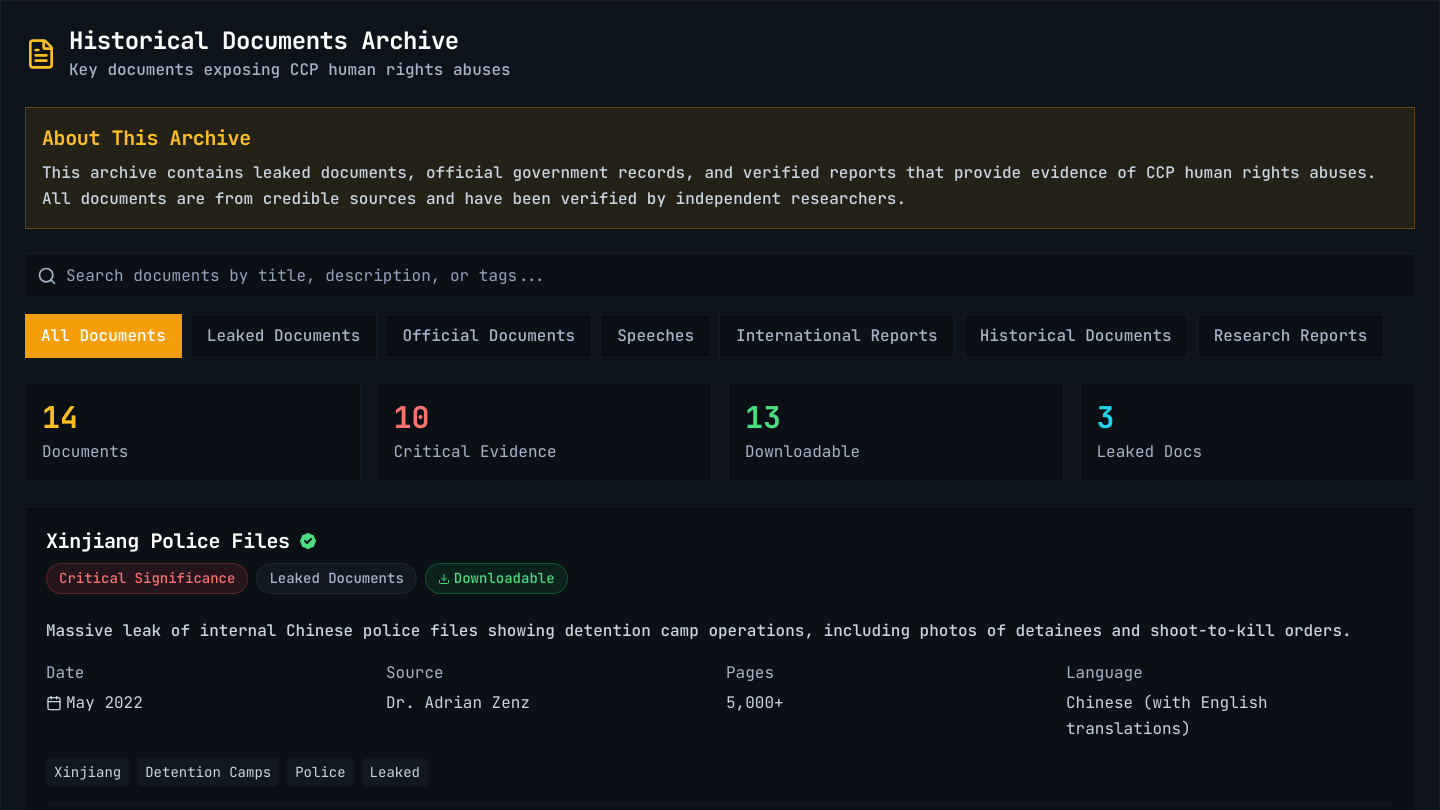
Test: HistoricalDocuments › searches documents by tag
Type "Tiananmen" into the field labelled "Search". click: (720, 276)
box: [25, 253, 1415, 298]
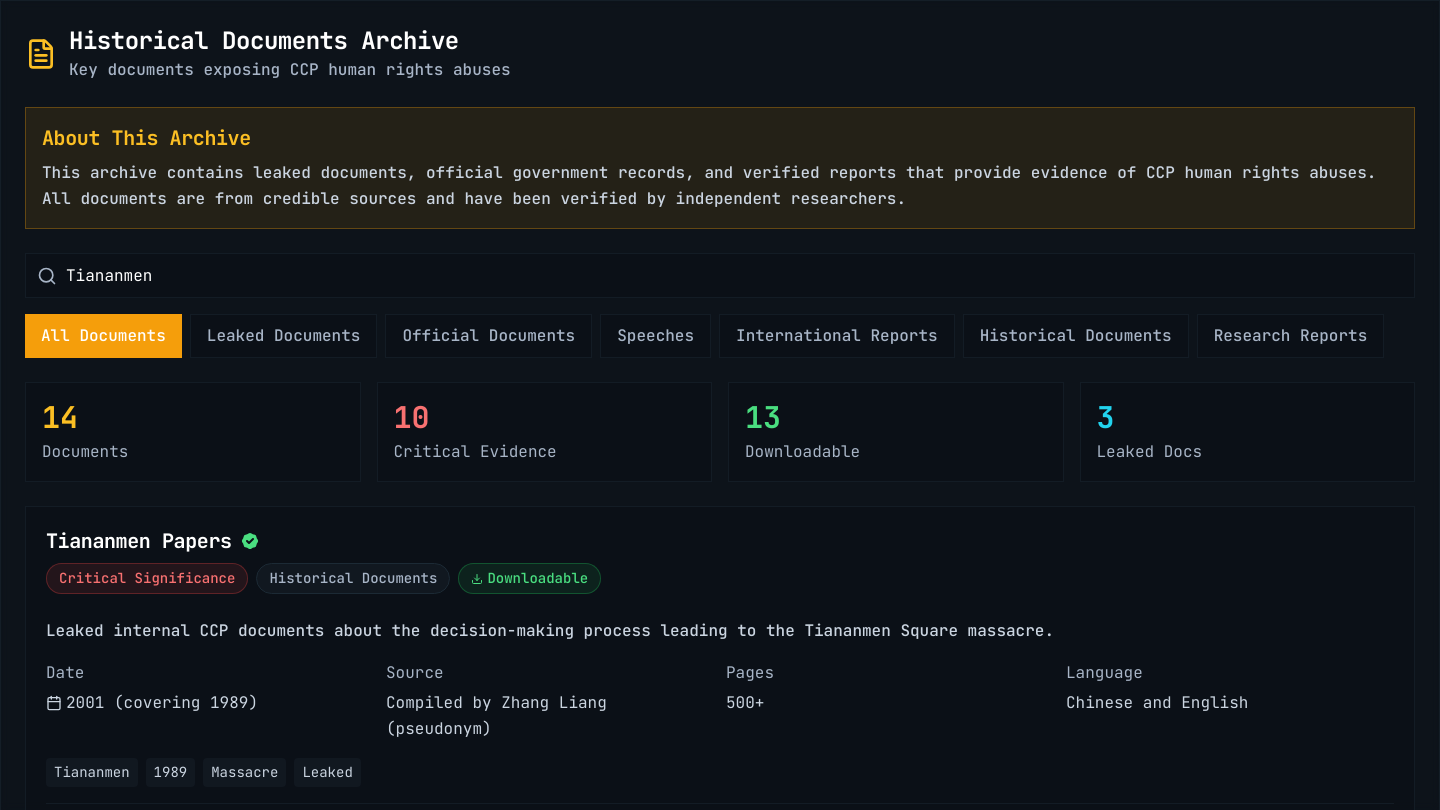
Expected: the heading "Tiananmen Papers" is shown, [46, 527, 232, 555]
